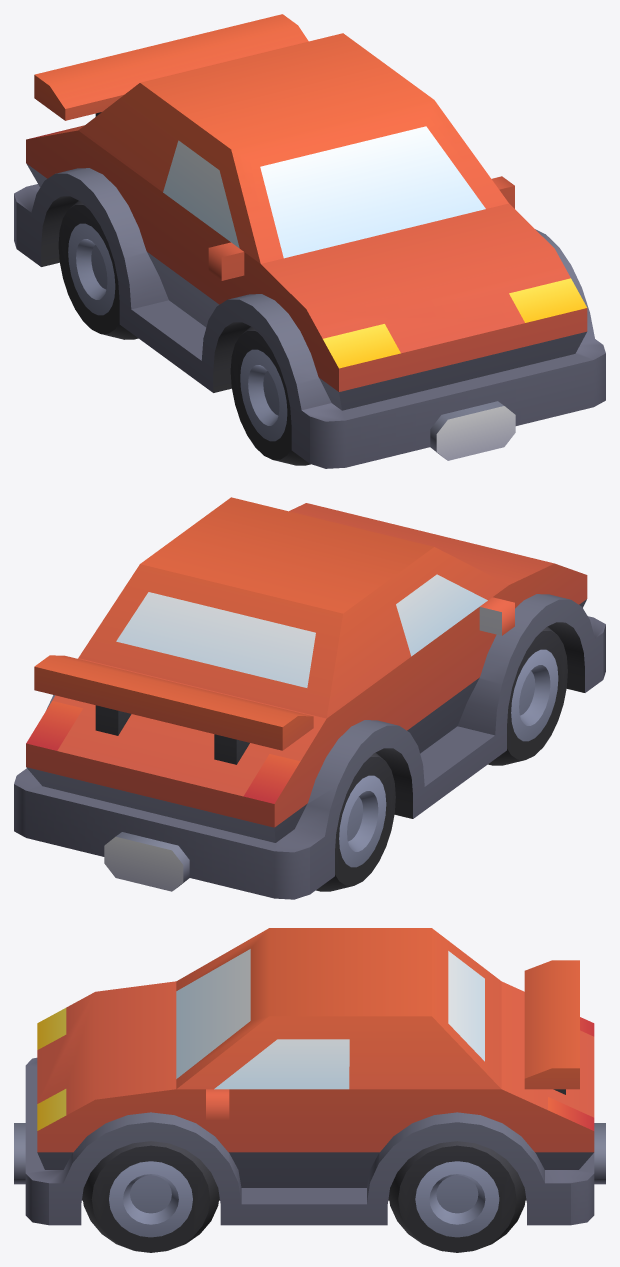
The model's file is sedan-sports.glb.
3 views of the same model, one above another, from view 1: azimuth 30°, elevation 25°; view 2: azimuth 150°, elevation 25°; view 3: azimuth 270°, elevation 25° (orthographic). The views are drawn at different scales.
Visible parts, largest first — view 1: wheel-back-right; view 2: wheel-back-right; view 3: wheel-back-right.
Part boxes in pixels (box(x1,y1,x2,y2)): wheel-back-right: box(14, 14, 605, 468); wheel-back-right: box(14, 497, 605, 899); wheel-back-right: box(14, 928, 605, 1252).
Bounding box in the file's own units: 1.3 × 1.1 × 2.55.
Materials: 1 (1 with a texture image).
